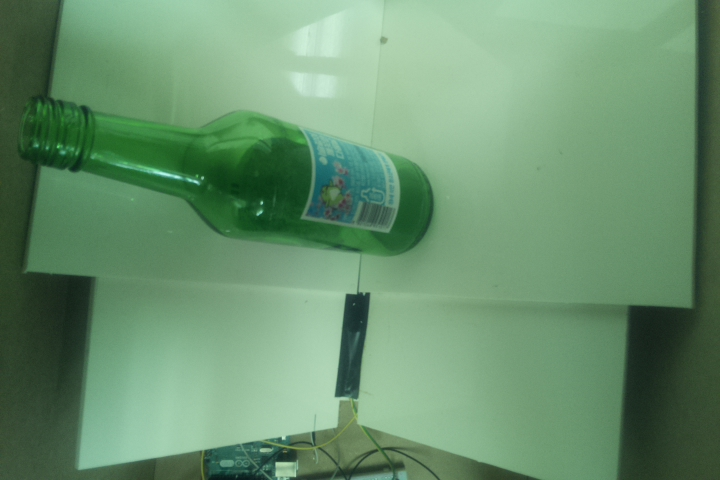soju: (20, 95, 435, 259)
